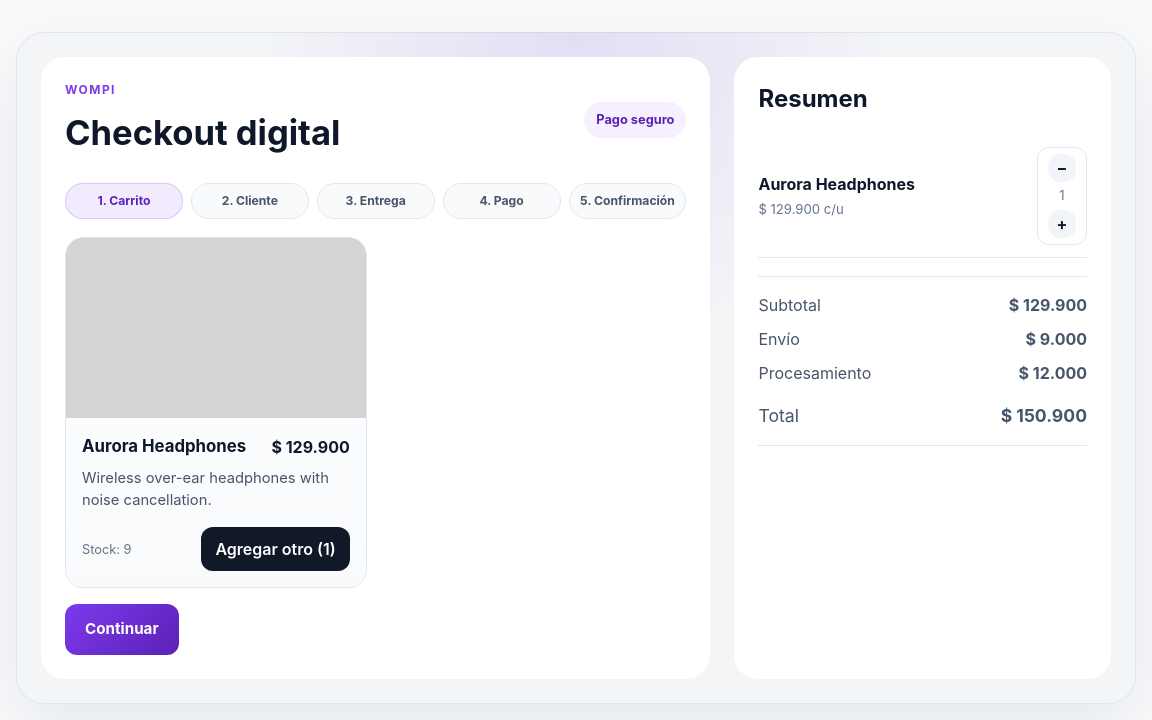
it: App checkout flow › Cart interactions › updates quantity with + and - buttons
Expected: the text "1" is shown, 1059,186 -> 1065,206
Click the button "+": (1062, 224) 1048,210 -> 1076,238
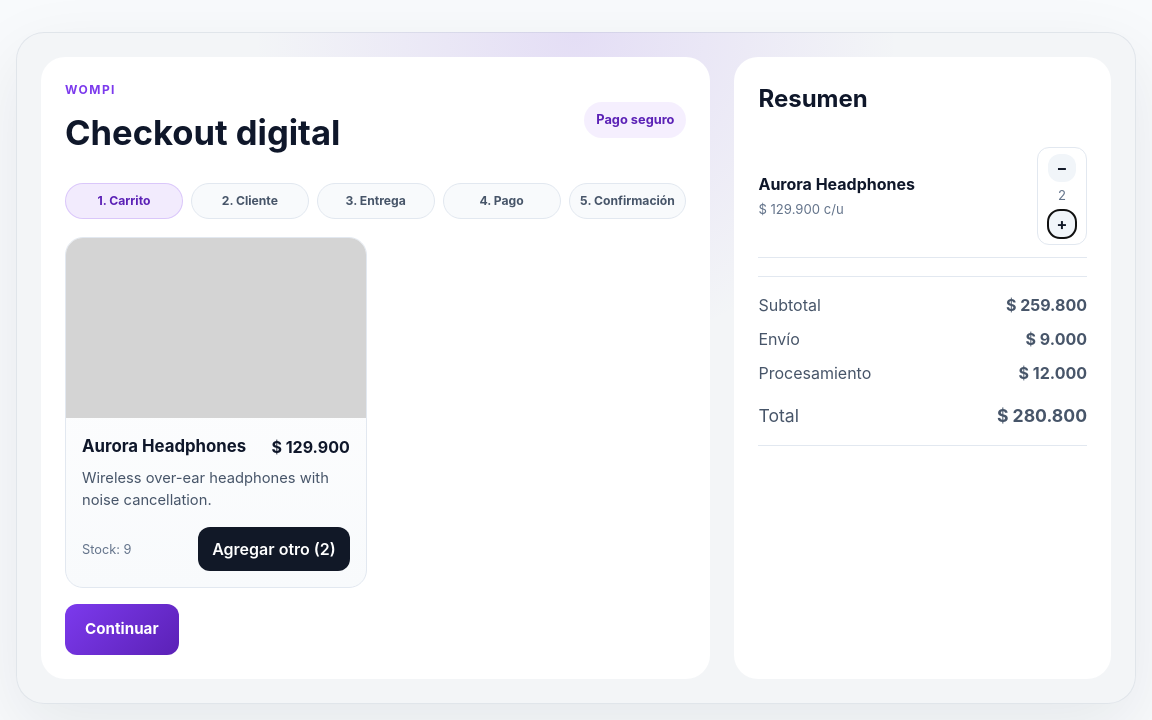
Expected: the text "2" is shown, 1058,186 -> 1066,206
Click the button "−": (1062, 168) 1048,154 -> 1076,182
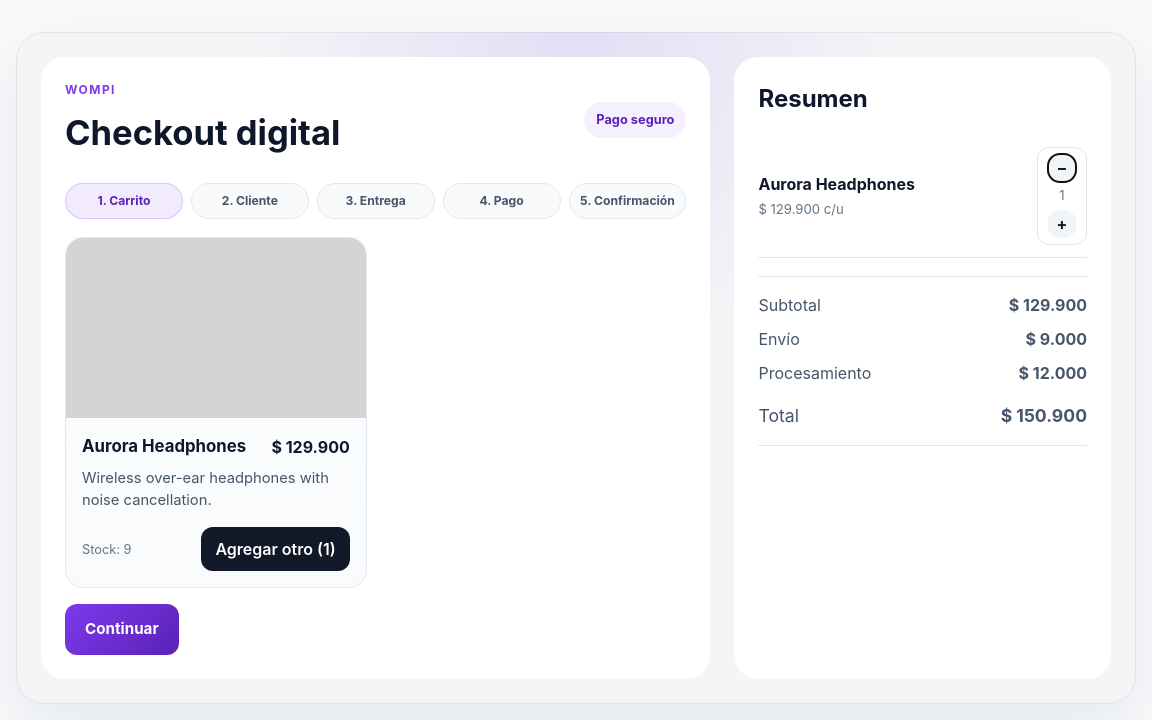
Expected: the text "1" is shown, 1059,186 -> 1065,206
